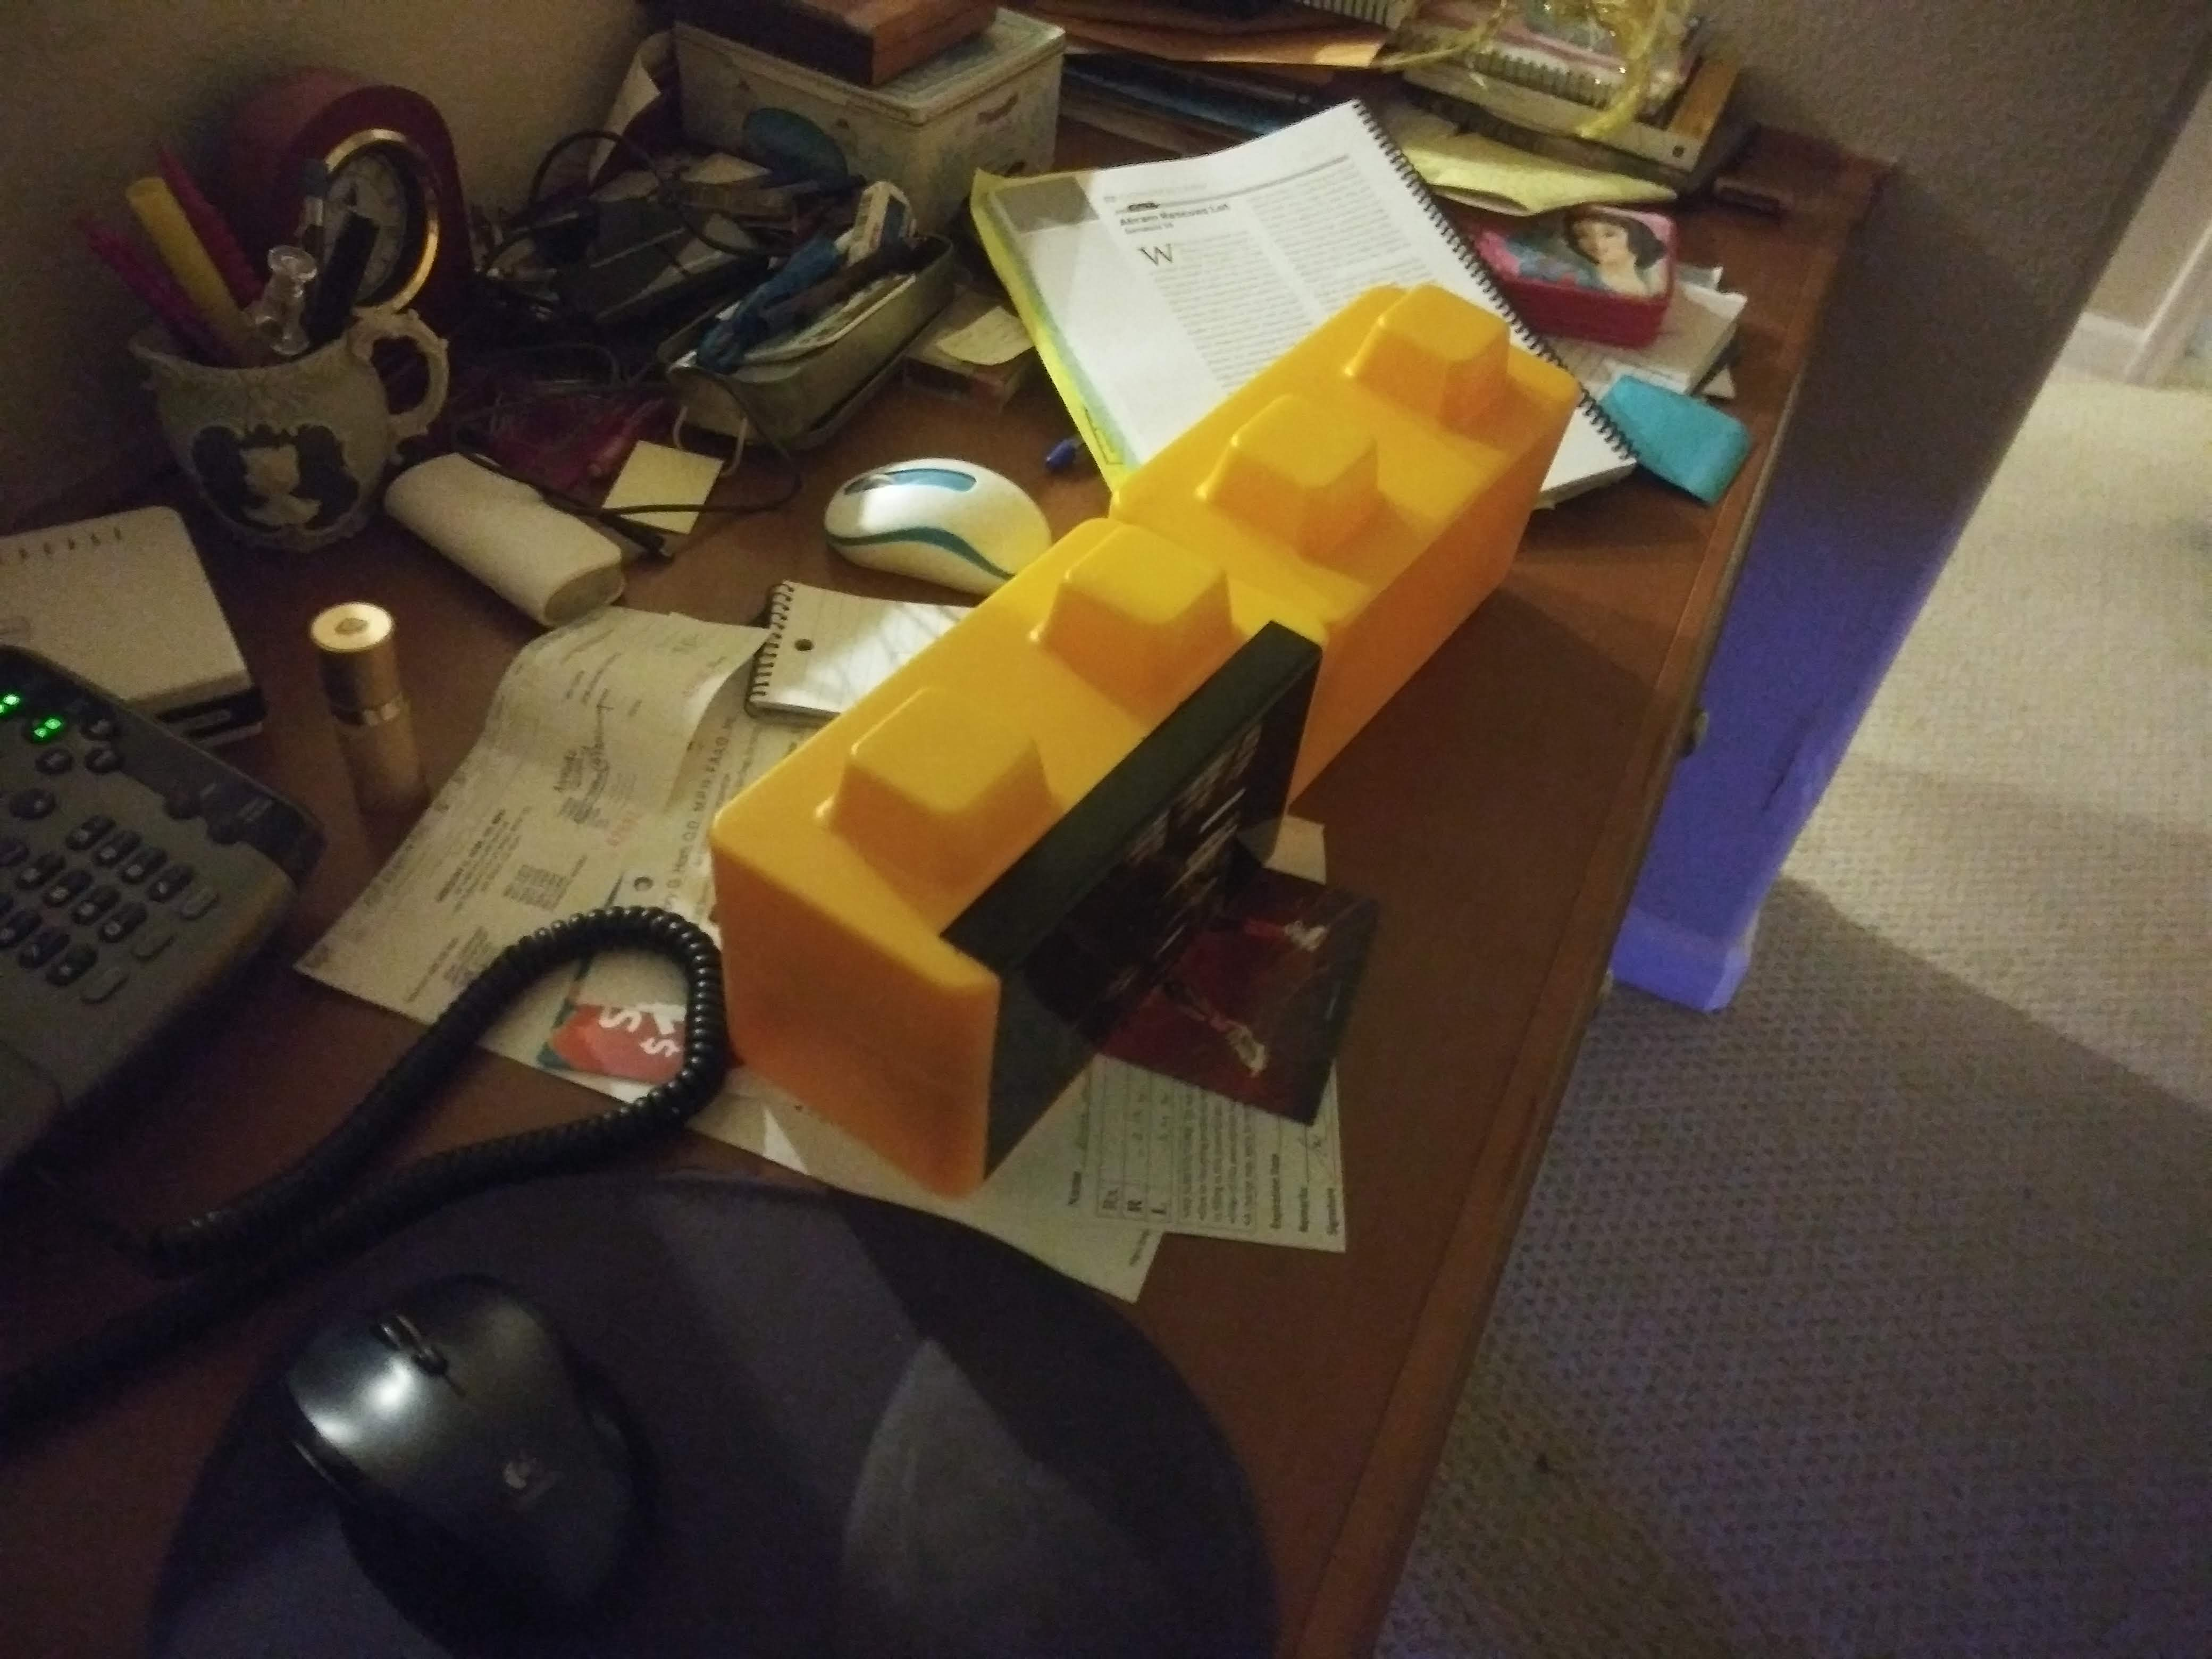stone: (792, 582, 1254, 1124), (1188, 308, 1503, 681)
